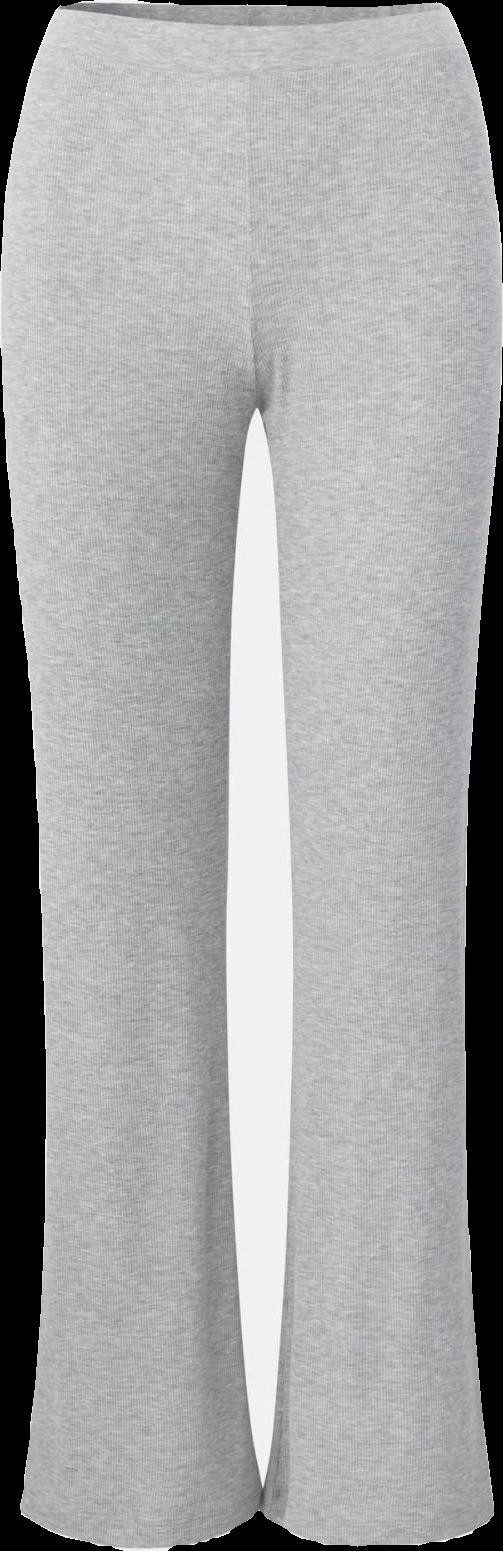Hemline: (14, 1488, 267, 1549), (250, 1493, 502, 1549)
Pantleg: (1, 3, 264, 1548), (253, 4, 501, 1550)
Waistline: (56, 3, 440, 43)
